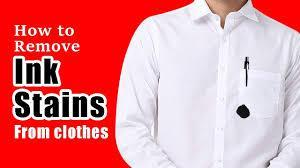ink: (236, 105, 250, 118)
